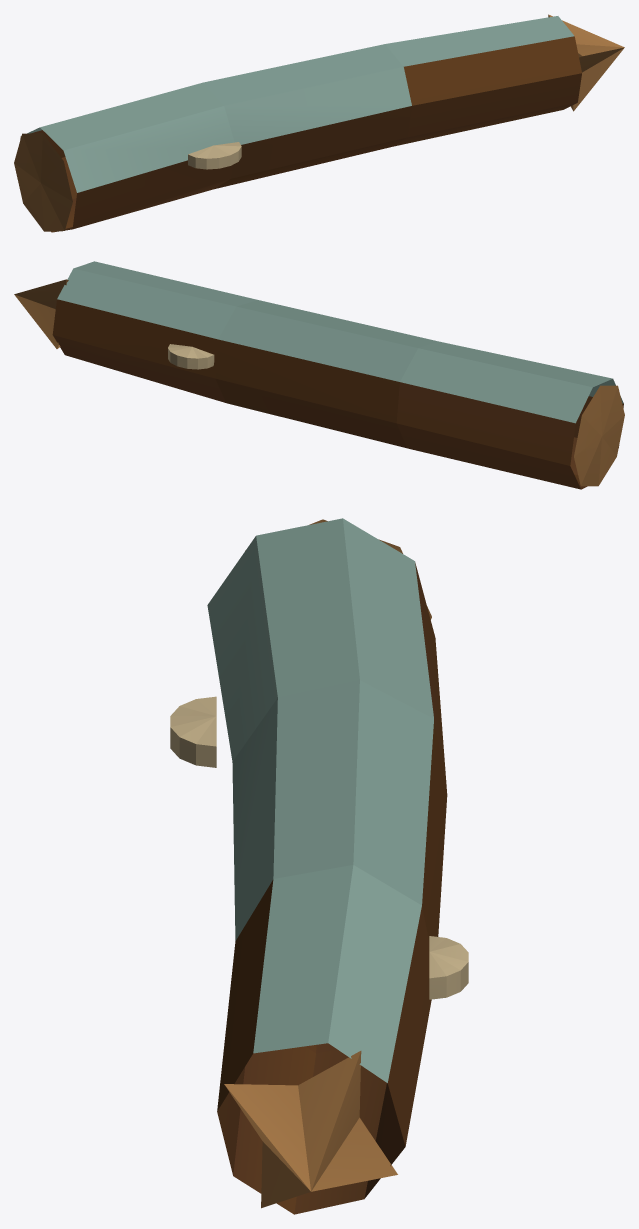
File: log_fallen_mid.glb
3 views of the same model, one above another, from view 1: azimuth 30°, elevation 25°; view 2: azimuth 150°, elevation 25°; view 3: azimuth 270°, elevation 25° (orthographic). The views are drawn at different scales.
Size of the model in its own units: 4.54 by 0.7574 by 1.01.
